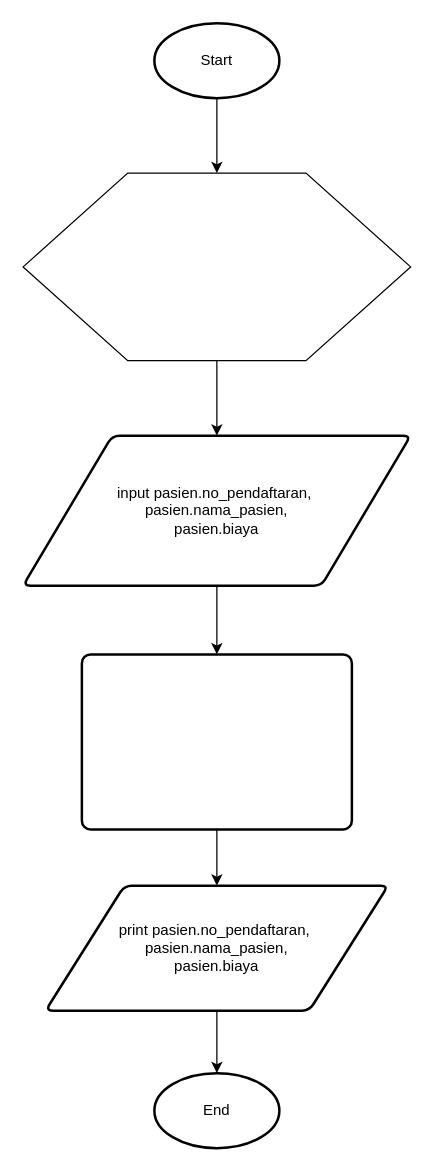
This 433x1170 diagram has some shape labels left out. The centre of each missing label's shape, as x and y in pixels:
data_pasien : struct no_pendaftaran, nama_pasien : int biaya: float: the point at 216,266
menyimpan data dalam rstruct data_pasien: the point at 216,741
